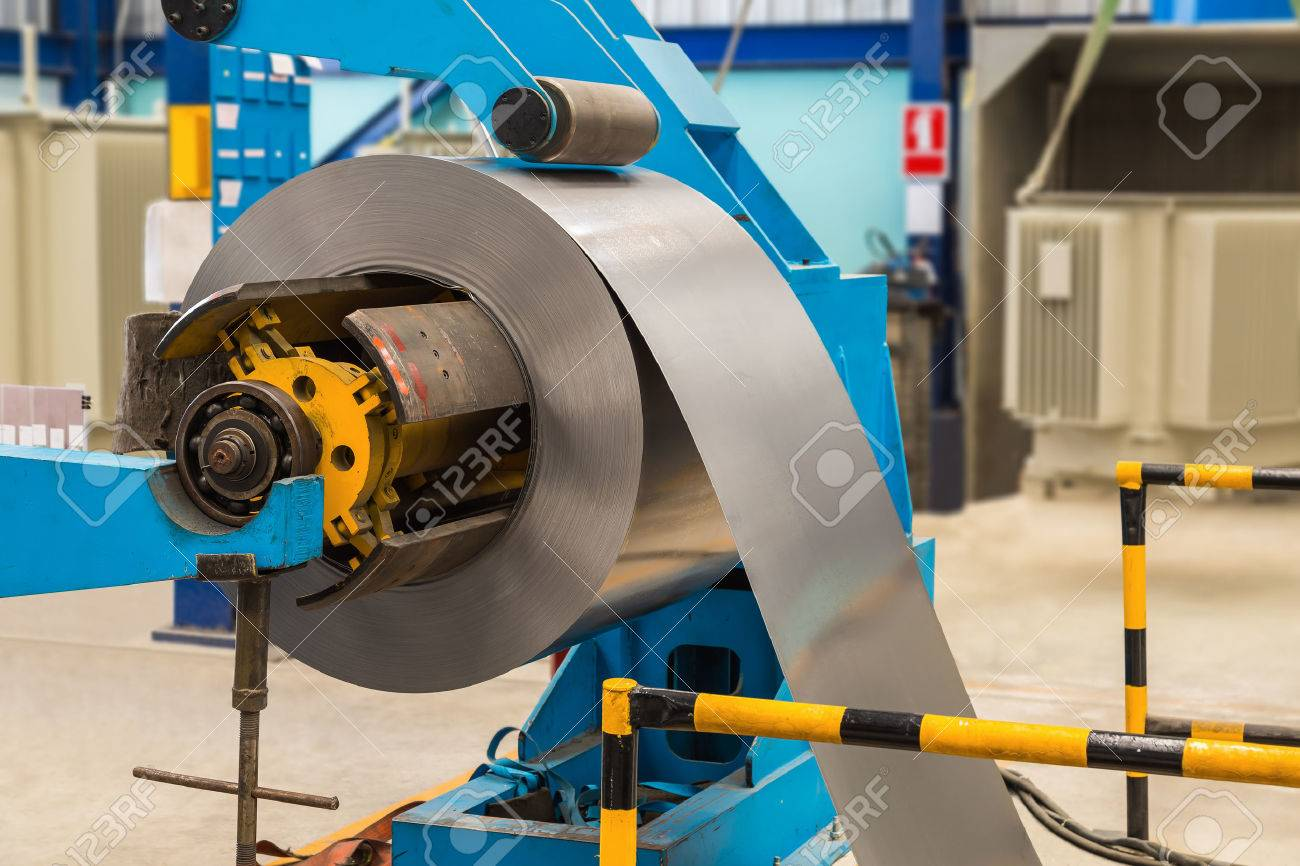steel-coil: (146, 179, 823, 724)
